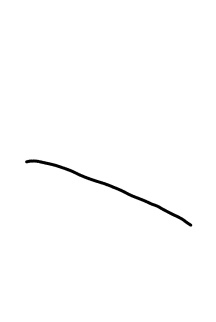Line: (21, 155, 195, 229)
